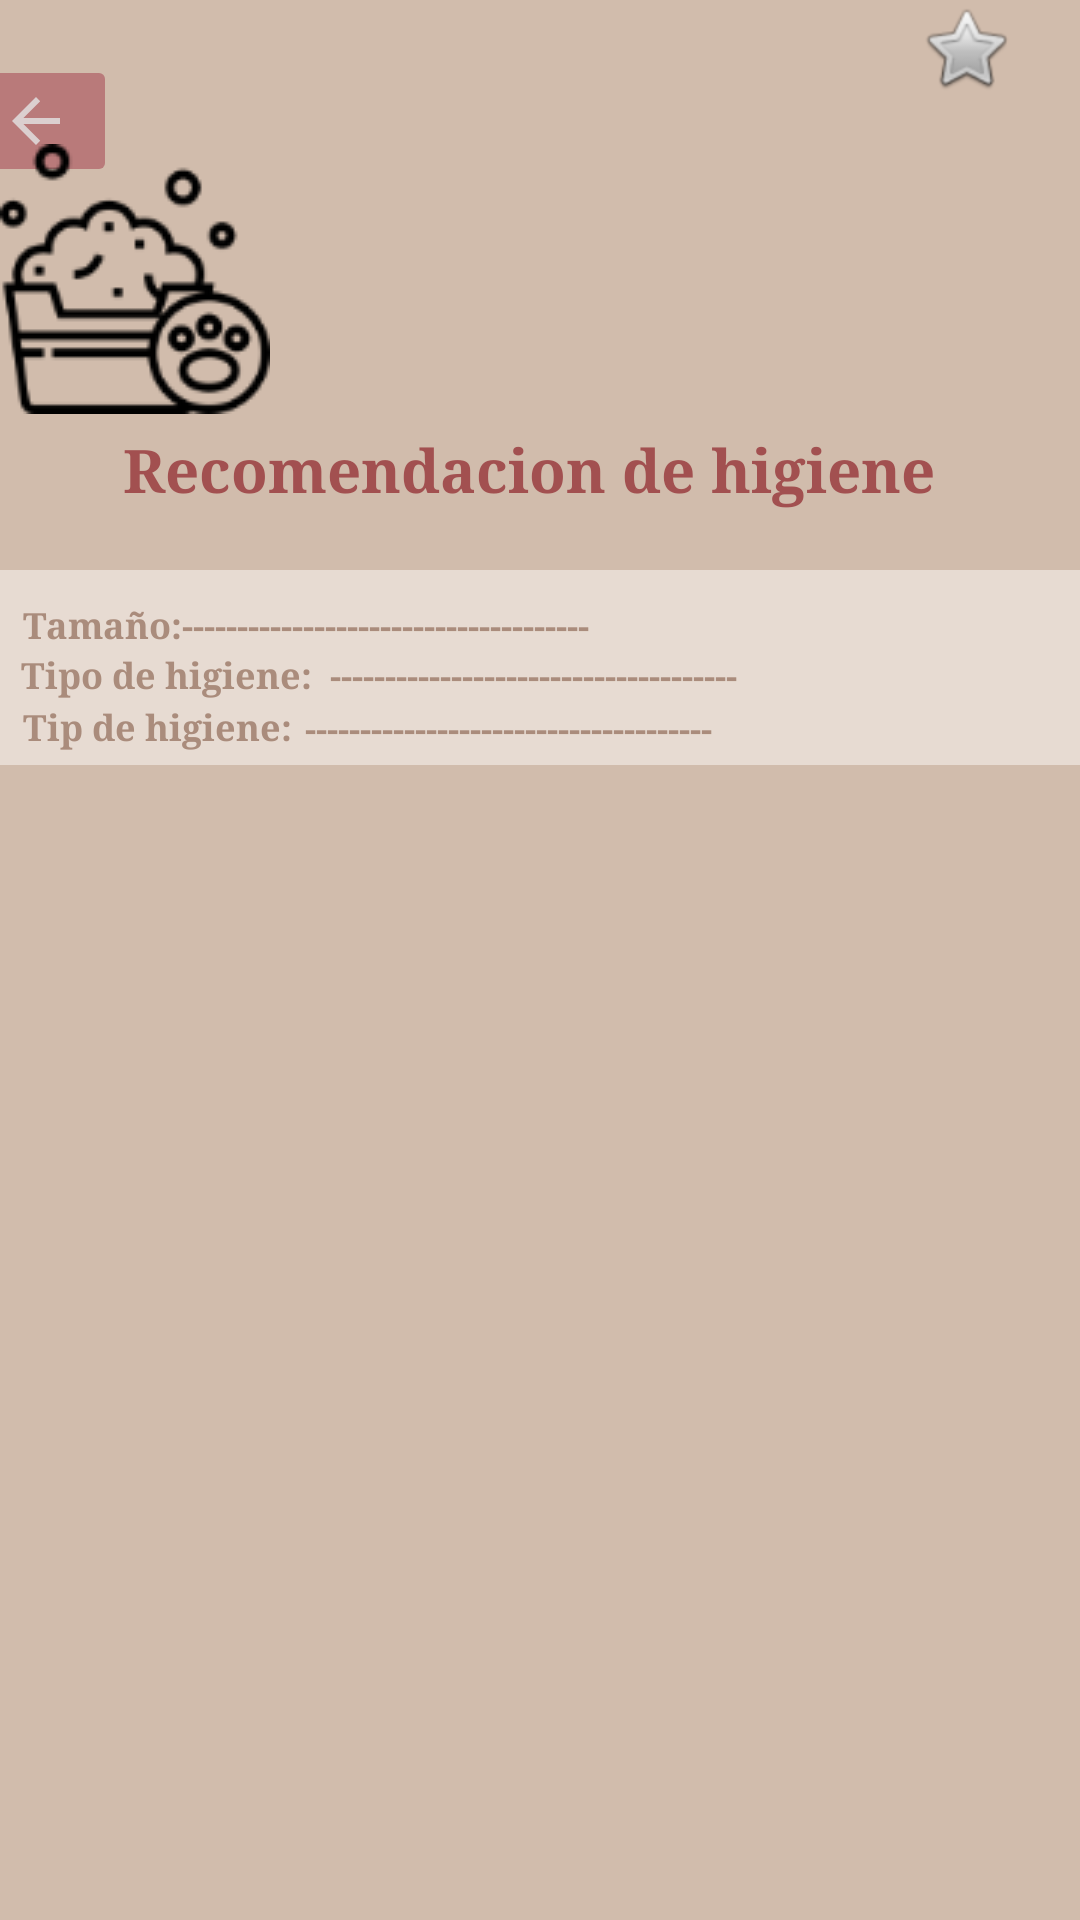

Icons on this 1080w x 1920h Android screen, each with its box as (x1, y1, x2, y2):
hygieneicon: (0, 168, 270, 414)
star off: (927, 10, 1007, 88)
